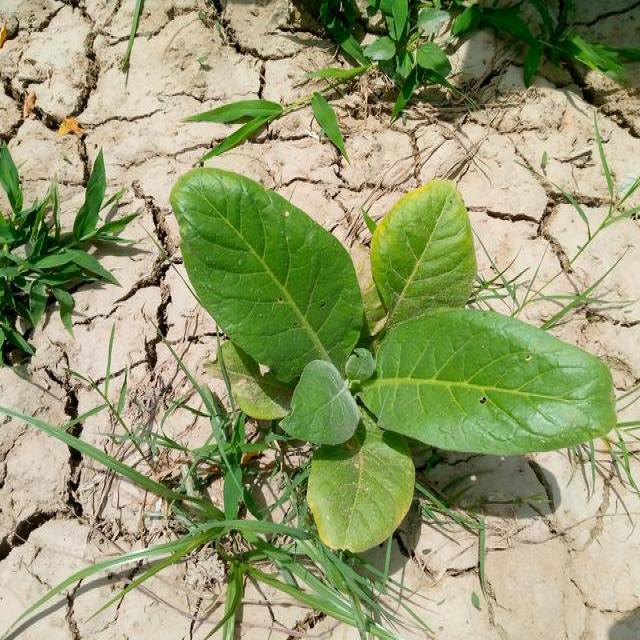crop: (164, 156, 614, 553)
